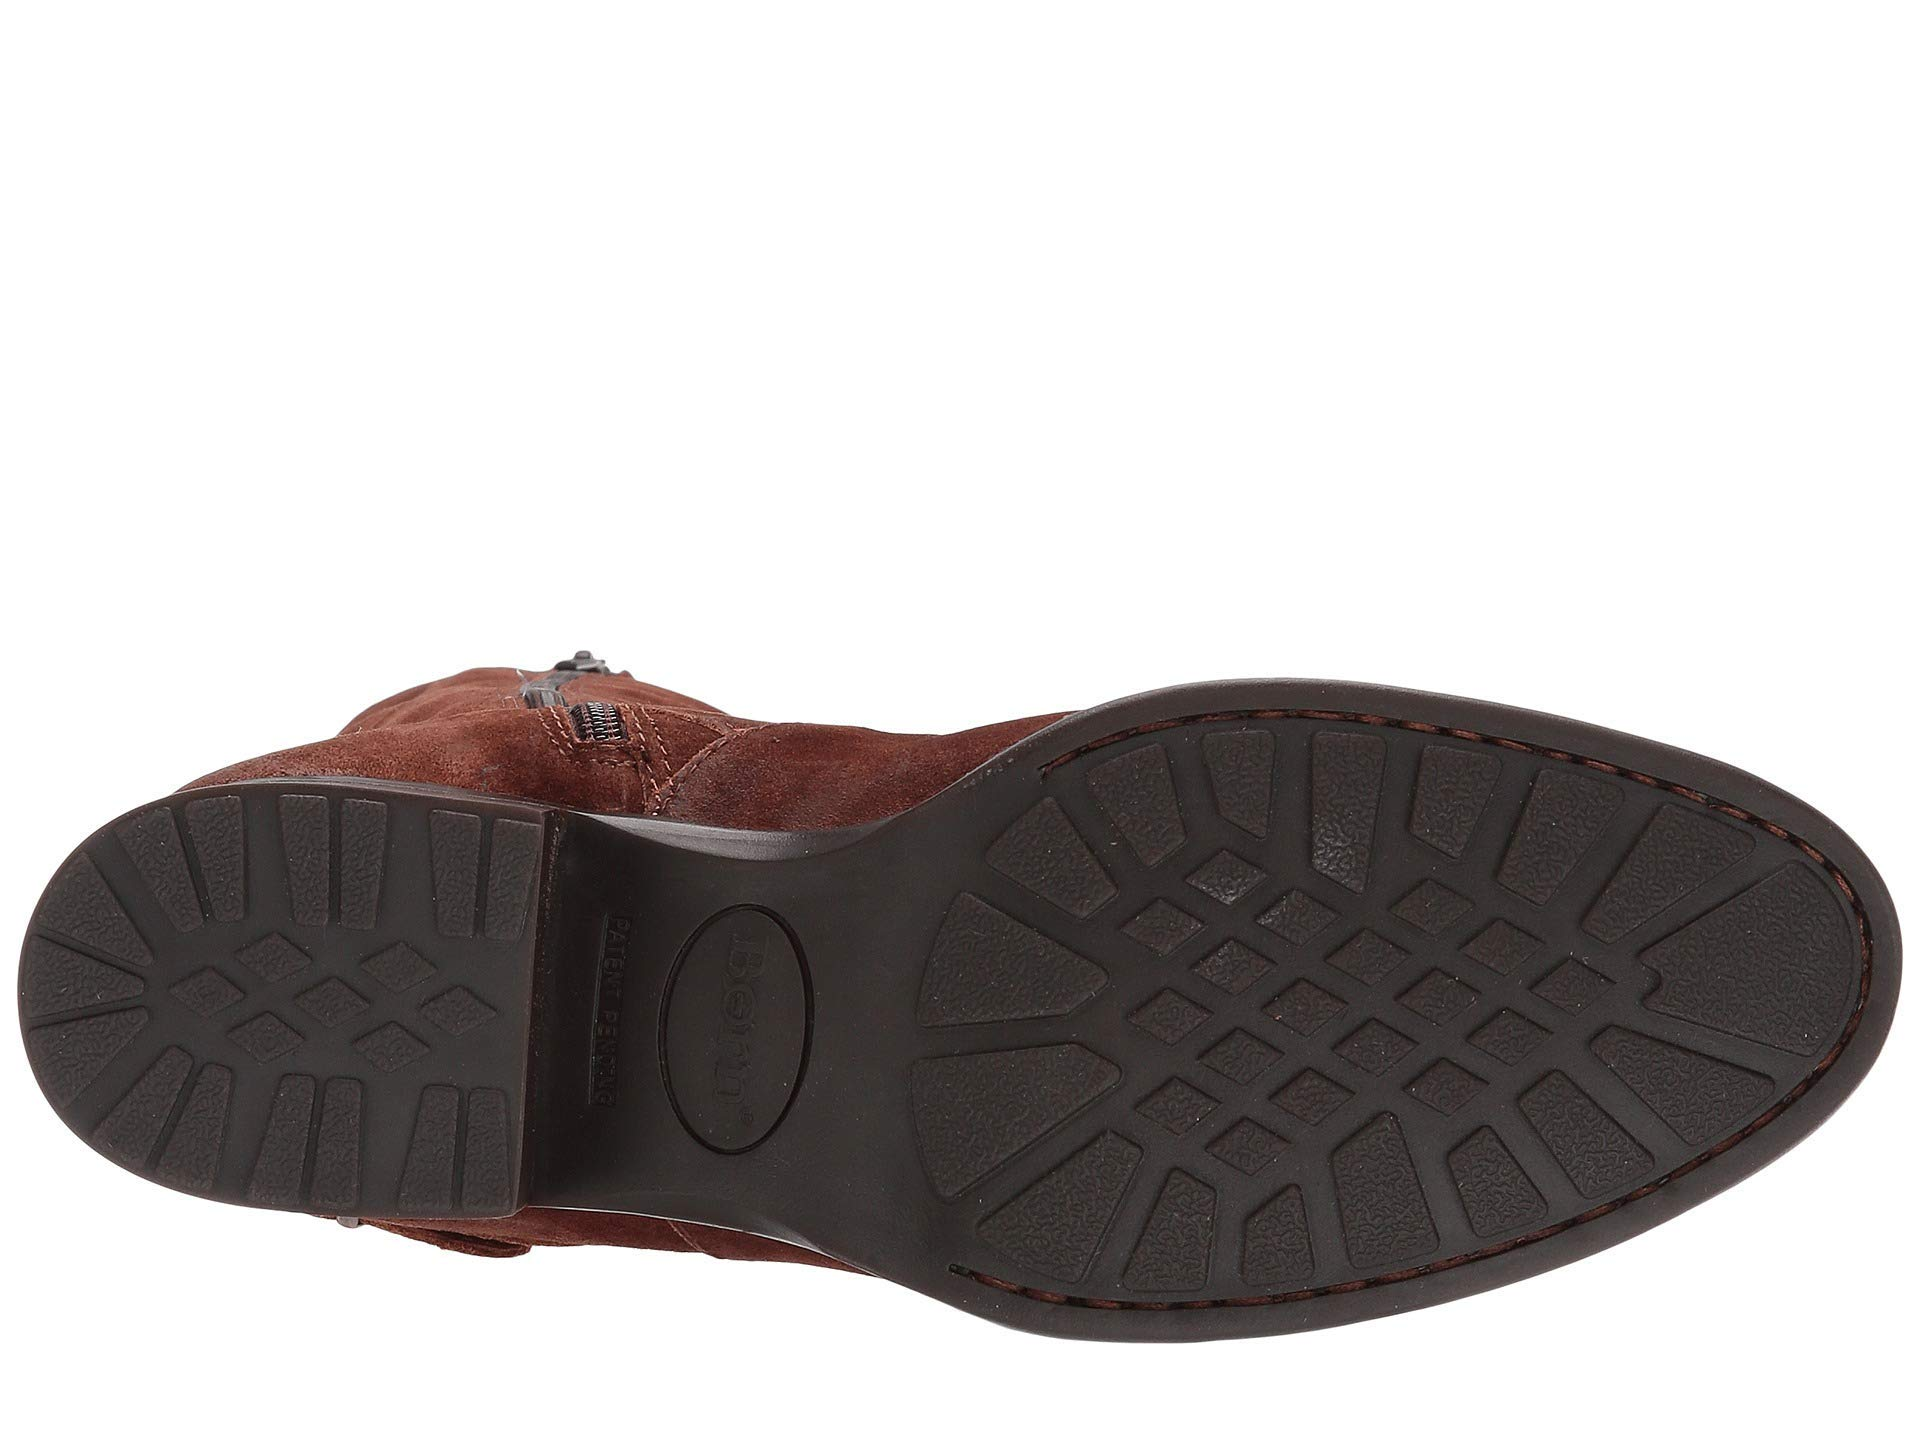quad: (1125, 835, 1536, 1234), (197, 839, 544, 1233)
